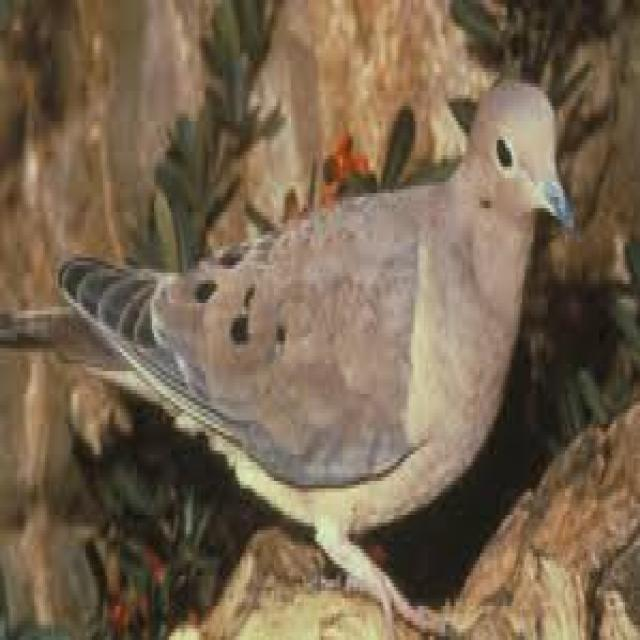bird: (2, 66, 573, 640)
